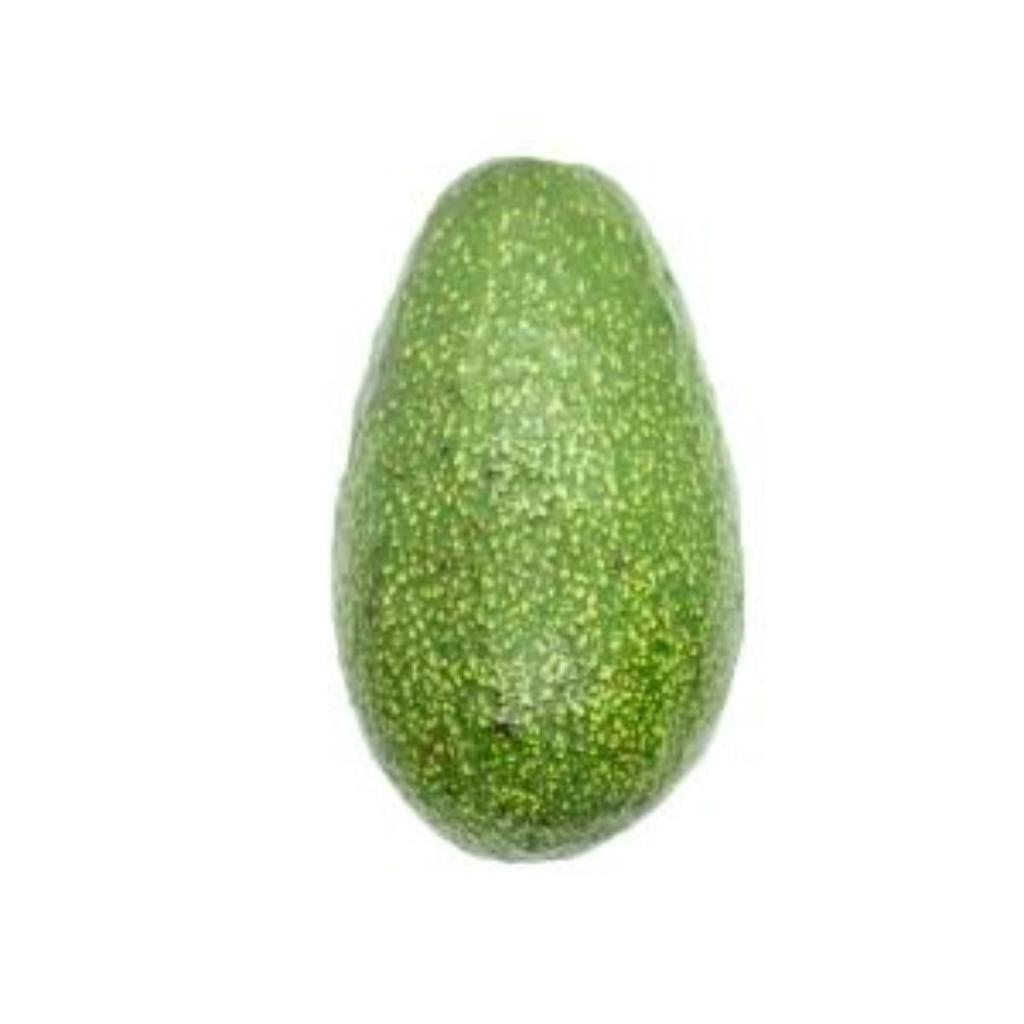cercospora: (308, 144, 755, 874)
